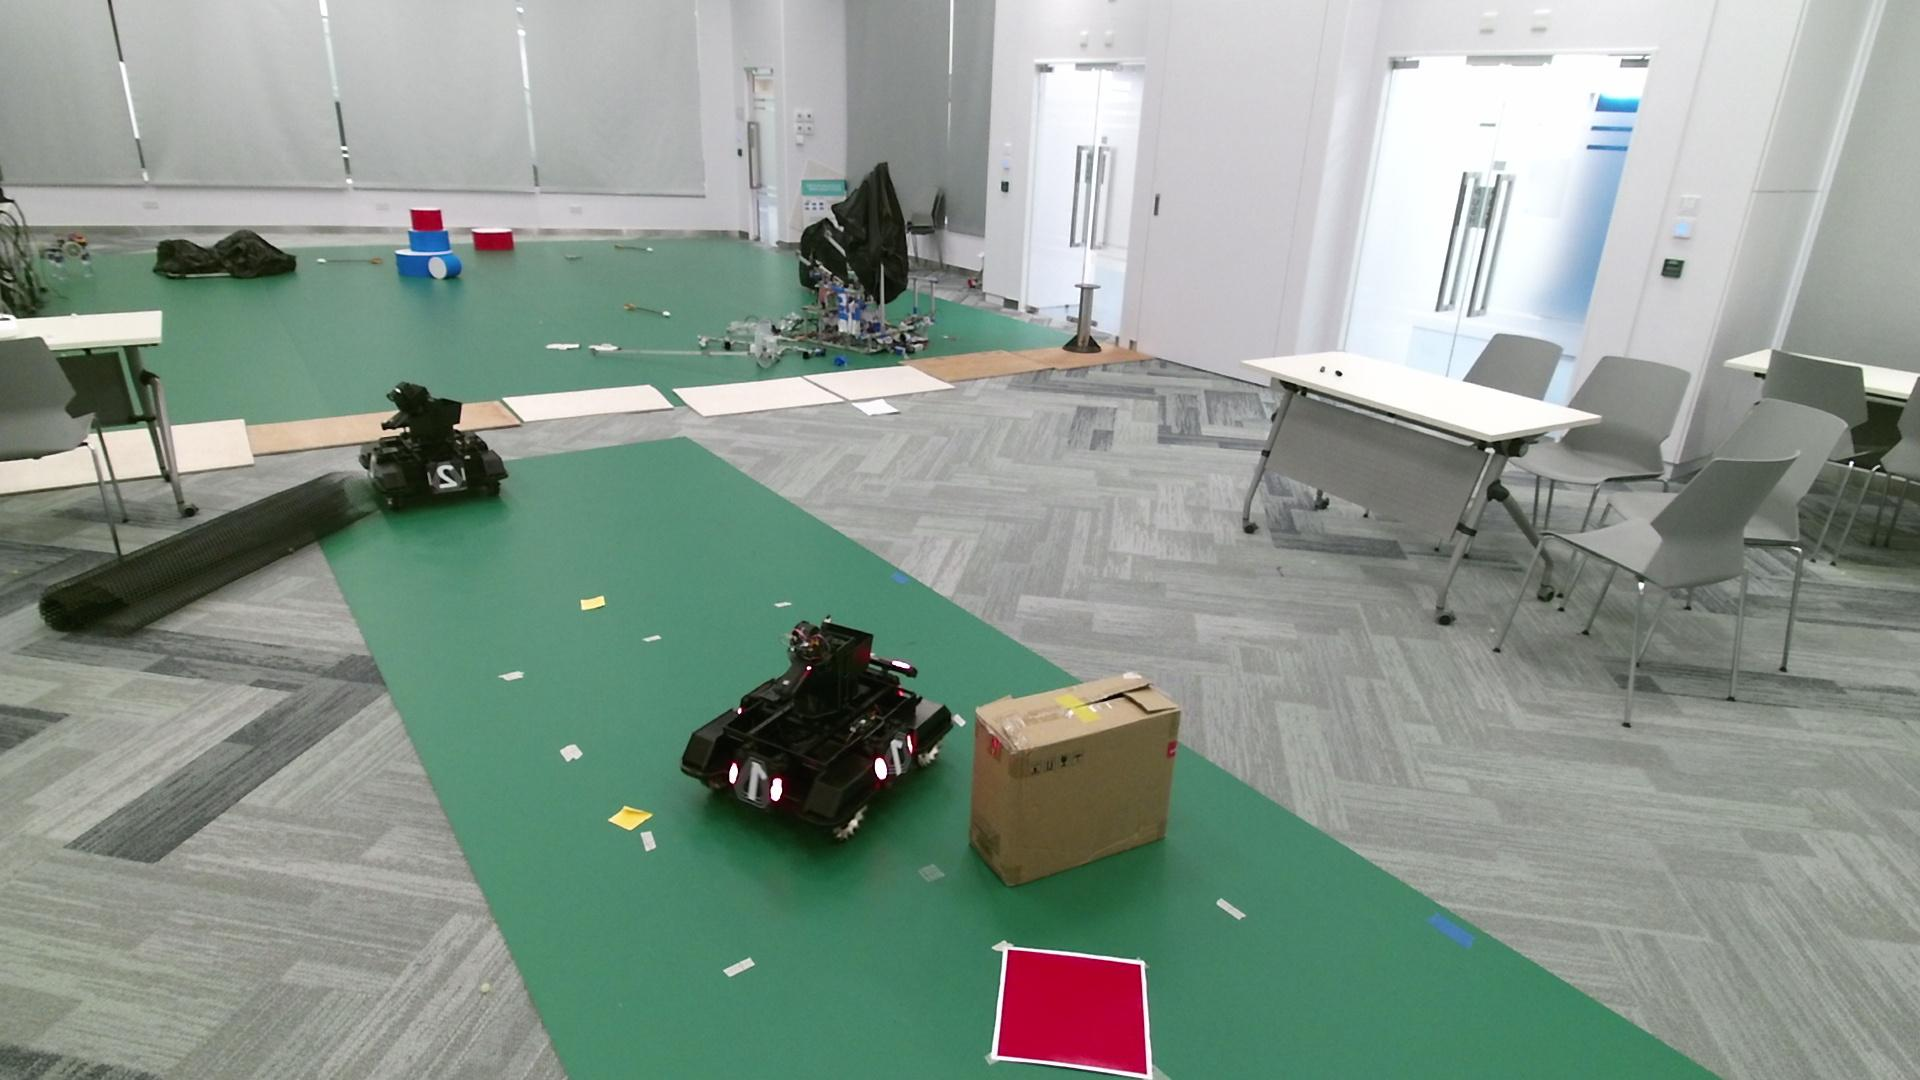robot: (679, 618, 956, 843), (357, 381, 508, 510)
